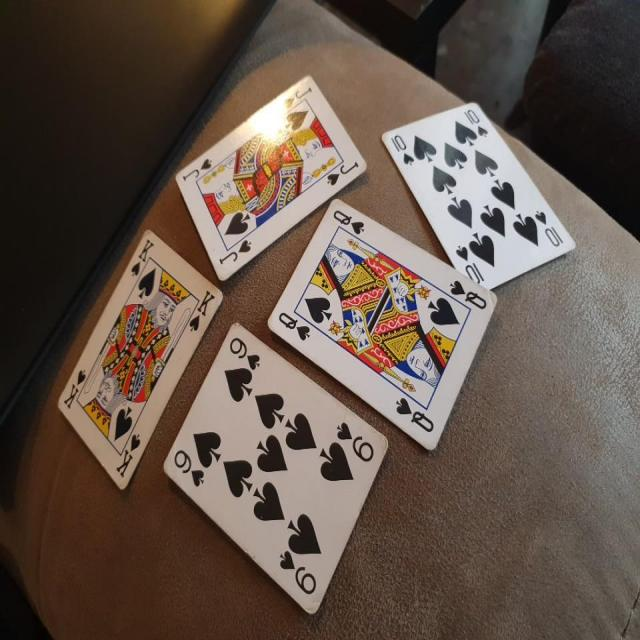10 Spades: (375, 90, 582, 292)
9 Spades: (156, 317, 392, 631)
J Spades: (168, 70, 367, 289)
K Spades: (52, 216, 221, 498)
Q Spades: (266, 194, 499, 453)
